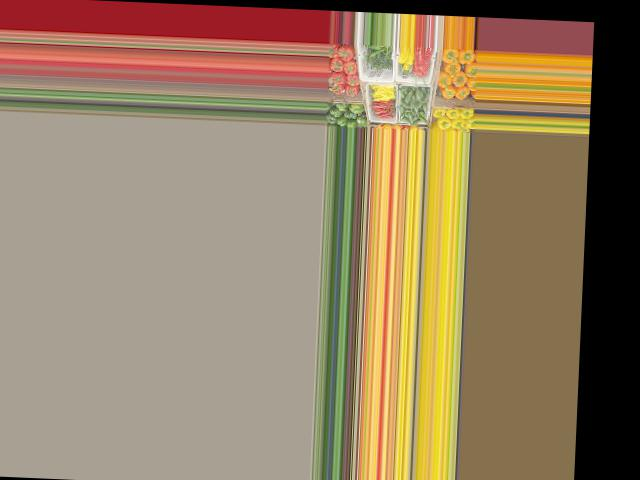bell_pepper: (334, 100, 349, 116)
